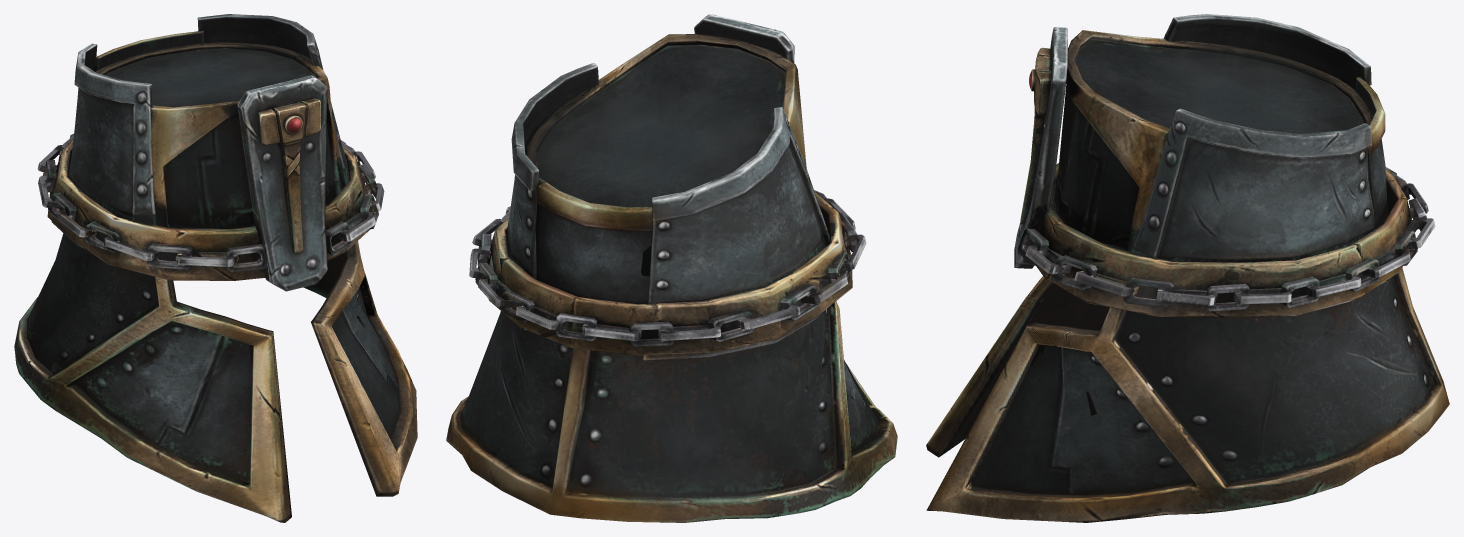
Rendered from sm_dwarf_heodedna_helmet.gltf.
3 views of the same model, side by side, from view 1: azimuth 30°, elevation 25°; view 2: azimuth 150°, elevation 25°; view 3: azimuth 270°, elevation 25° (orthographic). The views are drawn at different scales.
Visible parts, largest first — view 1: sm_dwarf_heodedna_helmet; view 2: sm_dwarf_heodedna_helmet; view 3: sm_dwarf_heodedna_helmet.
Boxes of the visible parts, x1,y1,x2,y2 form: sm_dwarf_heodedna_helmet: [14, 14, 417, 522]; sm_dwarf_heodedna_helmet: [446, 14, 897, 522]; sm_dwarf_heodedna_helmet: [926, 14, 1449, 522].
Size of the model in its own units: 43.78 by 47.75 by 51.88.
1 material, 1 textured.
